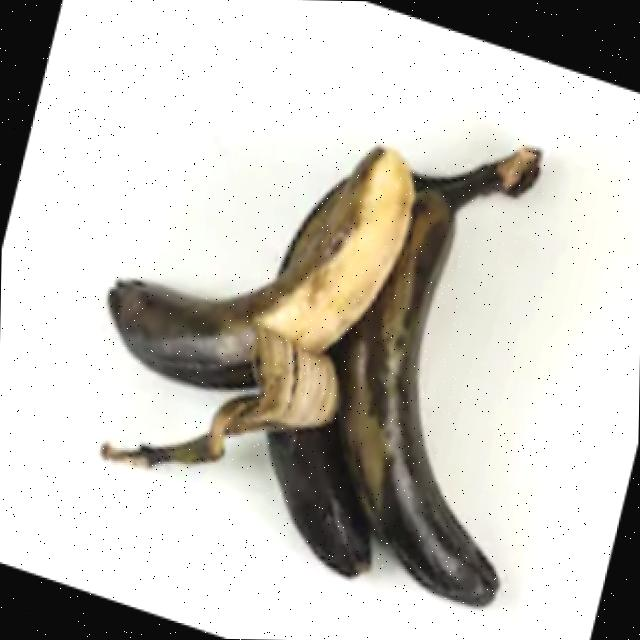rotten banana: (72, 95, 556, 609), (75, 114, 413, 422), (334, 152, 524, 614)
